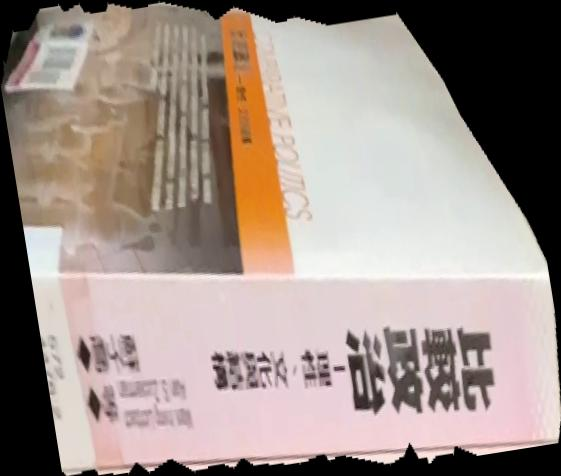flat: (1, 1, 561, 476)
